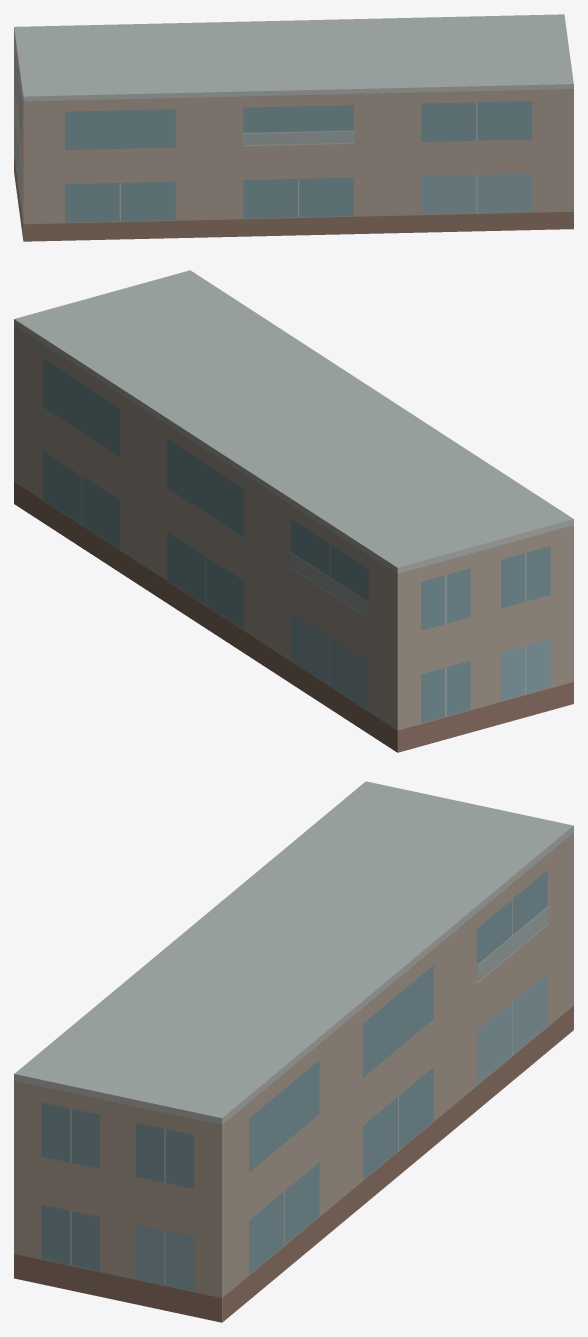
Rendered from survey-upis-32828737.glb.
3 views of the same model, one above another, from view 1: azimuth 30°, elevation 25°; view 2: azimuth 150°, elevation 25°; view 3: azimuth 270°, elevation 25° (orthographic). The views are drawn at different scales.
Parts seen in each view (by area): view 1: survey-upis-32828737.tmp; view 2: survey-upis-32828737.tmp; view 3: survey-upis-32828737.tmp.
Part boxes in pixels (bbox=[...]): survey-upis-32828737.tmp: bbox=[14, 14, 573, 241]; survey-upis-32828737.tmp: bbox=[14, 270, 573, 752]; survey-upis-32828737.tmp: bbox=[14, 781, 573, 1322].
Bounding box in the file's own units: 25.82 × 7.3 × 18.13.
